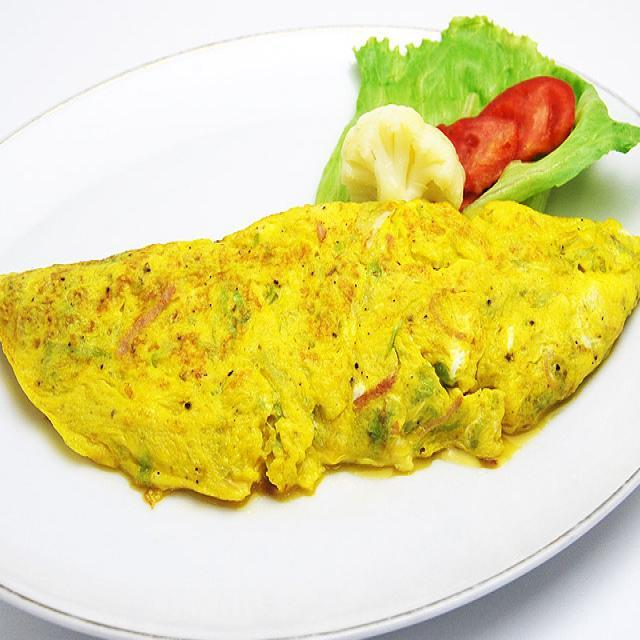Omelet: (0, 189, 640, 496)
